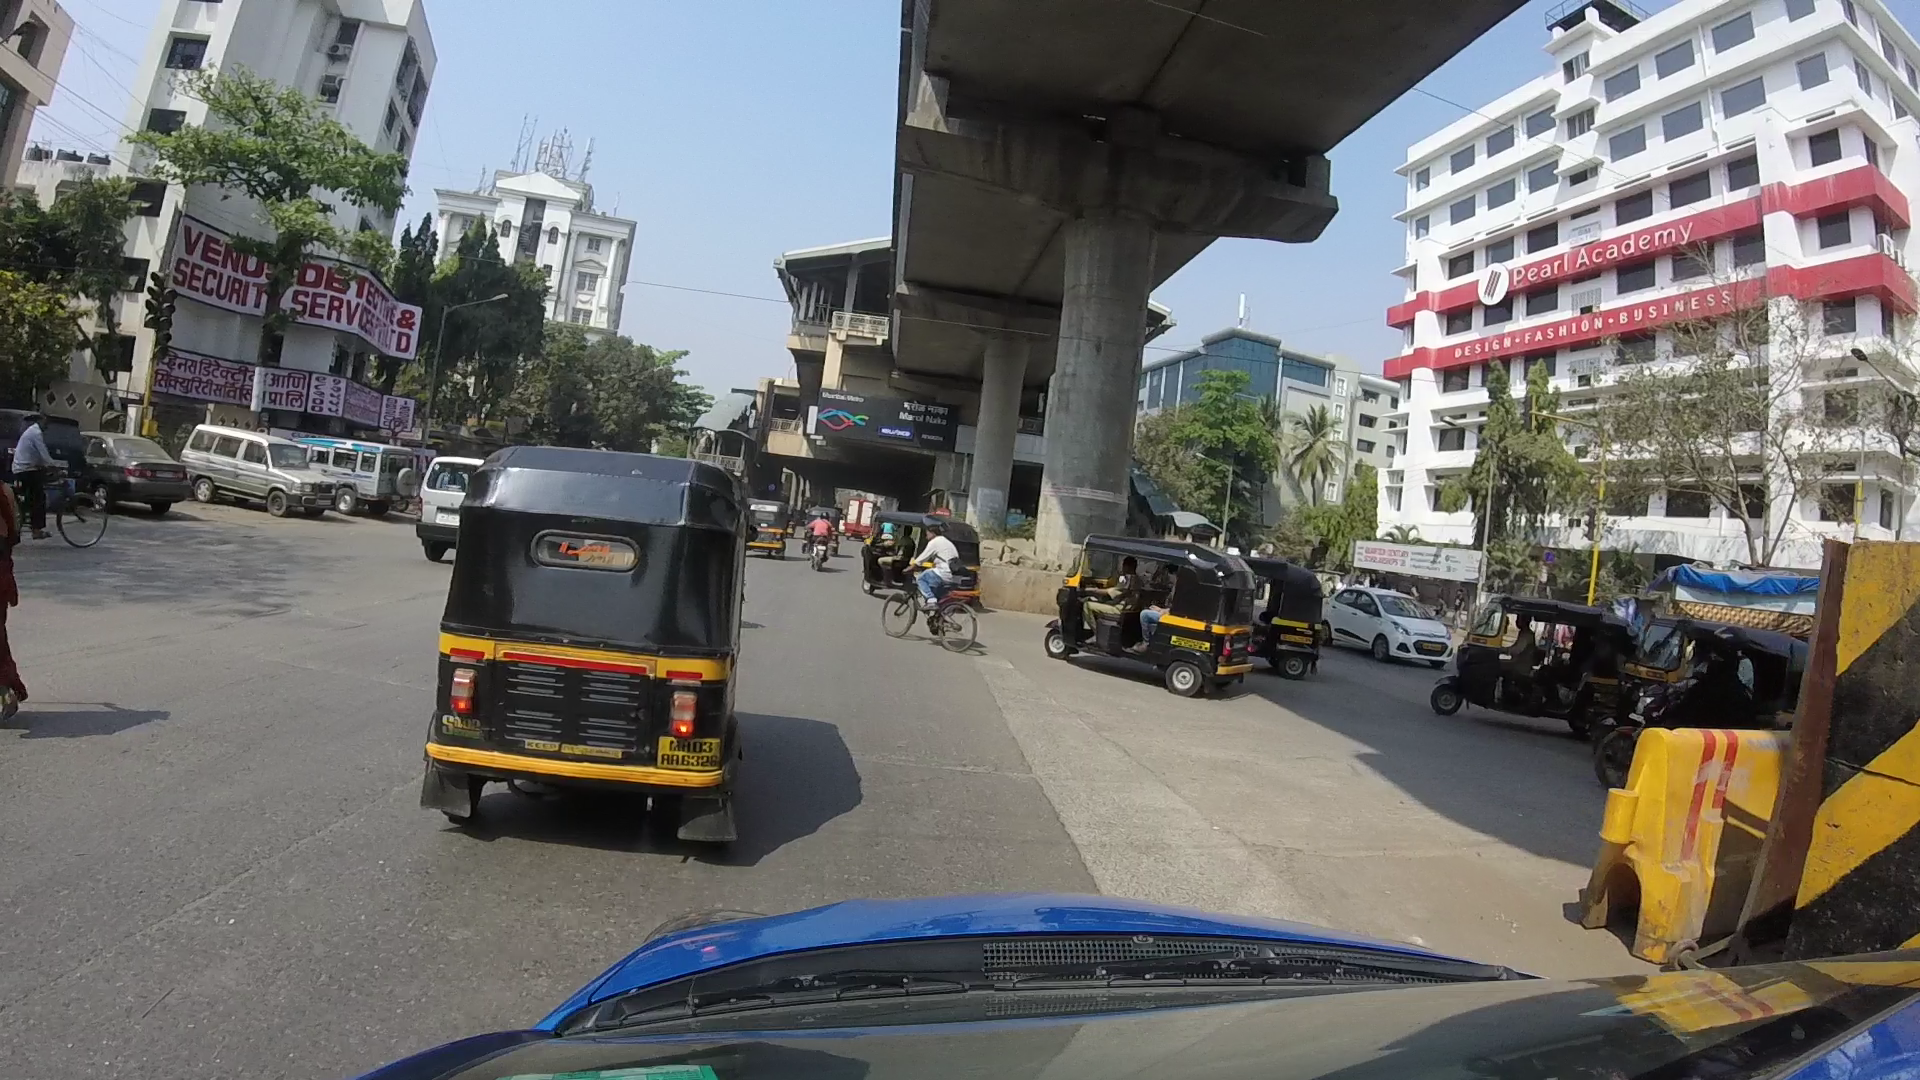car: (179, 409, 352, 545), (396, 447, 492, 554), (84, 419, 181, 512)
rickshaw: (380, 429, 798, 828), (1039, 501, 1262, 771), (1389, 566, 1665, 737)
